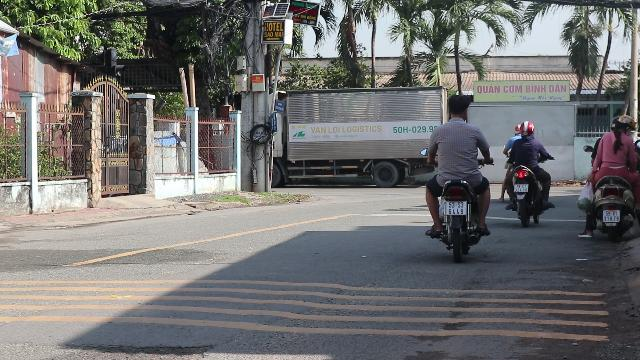helmet: (618, 114, 636, 134), (518, 120, 536, 140), (609, 115, 623, 133)
licenseplate: (445, 201, 467, 215), (603, 210, 619, 222), (514, 184, 528, 192)
motorcyclist: (421, 93, 494, 259), (576, 113, 640, 241), (499, 121, 553, 226)
nohelmet: (445, 94, 471, 120)
